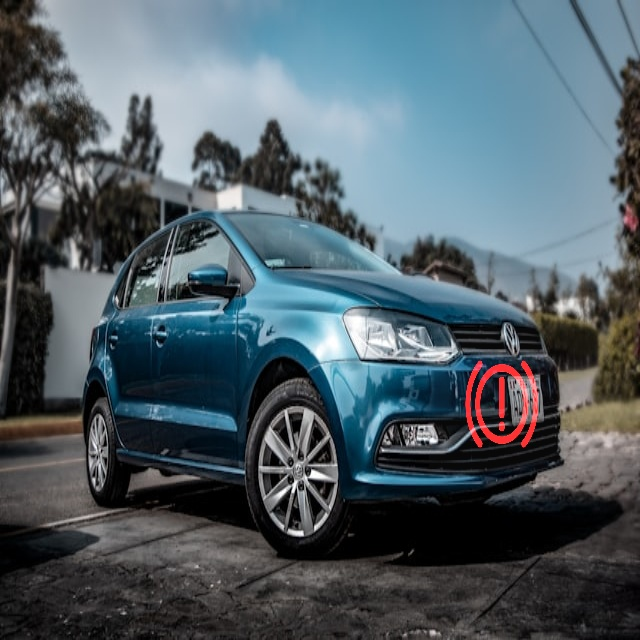symbol: (429, 328, 574, 473)
